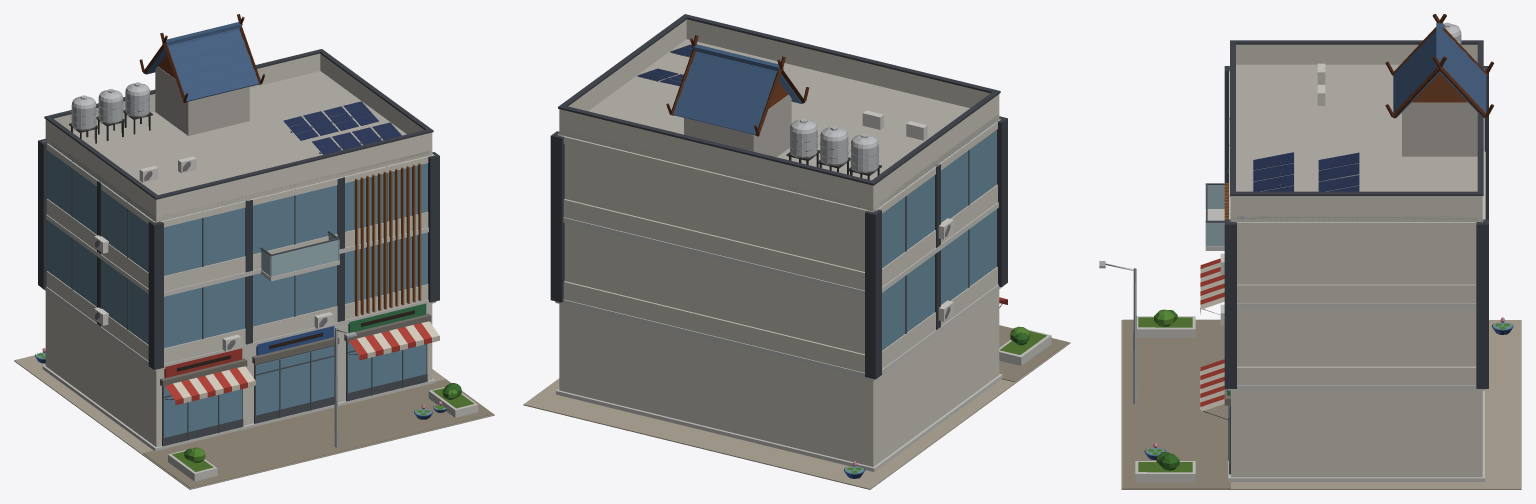
Rendered from shop_2.glb.
The picture shows the model from 3 angles, left to right: view 1: azimuth 30°, elevation 25°; view 2: azimuth 150°, elevation 25°; view 3: azimuth 270°, elevation 25°; orthographic projection. The views are drawn at different scales.
Visible parts, largest first — view 1: body; view 2: body; view 3: body.
Part boxes in pixels (x1,y1,x2,y2): body: [14, 14, 494, 489]; body: [523, 14, 1070, 489]; body: [1099, 14, 1521, 489].
Bounding box in the file's own units: 15.9 × 16.22 × 16.77.
